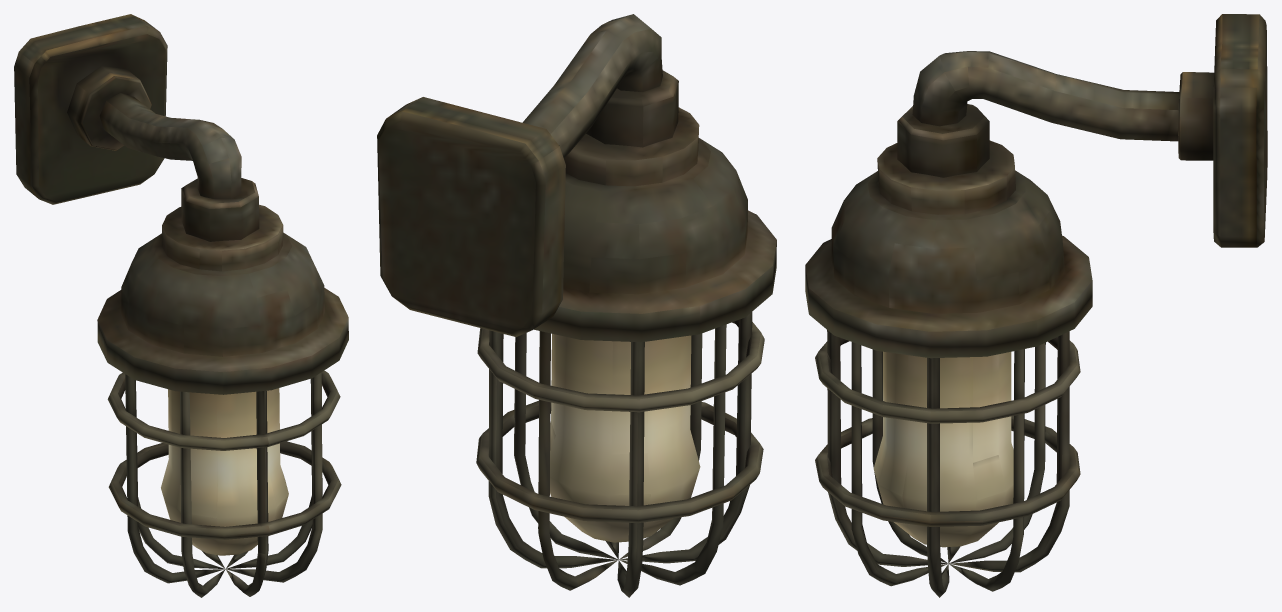
The model's file is safety_caged_work_light.fbx.
The picture shows the model from 3 angles, left to right: view 1: azimuth 30°, elevation 25°; view 2: azimuth 150°, elevation 25°; view 3: azimuth 270°, elevation 25°; orthographic projection. The views are drawn at different scales.
Parts seen in each view (by area): view 1: safety_caged_work_light; view 2: safety_caged_work_light; view 3: safety_caged_work_light.
Boxes of the visible parts, box(x1,y1,x2,y2) form: safety_caged_work_light: box(14, 14, 348, 597); safety_caged_work_light: box(377, 14, 776, 597); safety_caged_work_light: box(805, 14, 1267, 597).
Bounding box in the file's own units: 50.17 × 101 × 80.66.
